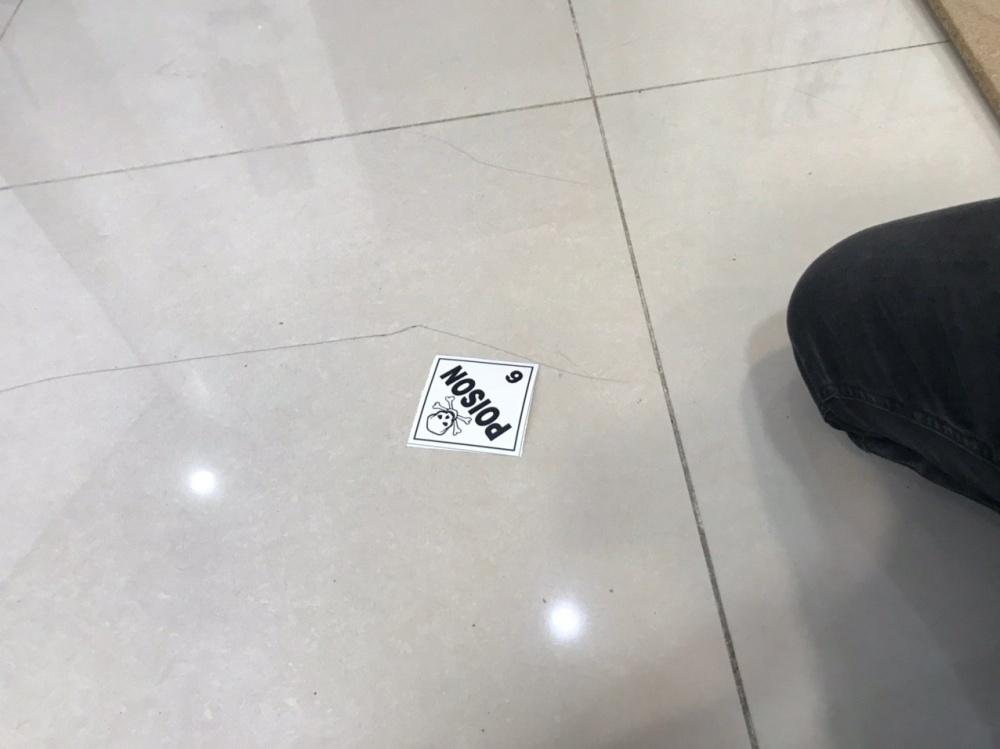poison: (407, 353, 541, 461)
